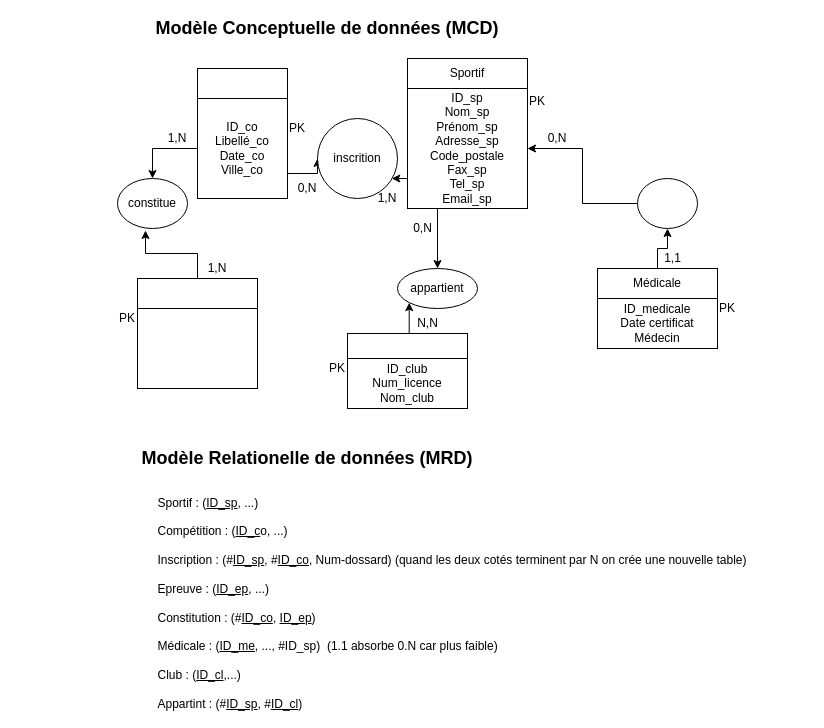
The diagram is 824 pixels wide and 728 high, and some of its shapes have lost their labels. Here are the shapes that lost their labels. From the top down, the centre of each, then its label:
At (x=242, y=83): "compétiton".
At (x=667, y=203): "justifie".
At (x=197, y=293): "Epreuve".
At (x=197, y=348): "ID_ep Libellé_ep Type_ep Distance Descriptif".
At (x=407, y=345): "Club".
